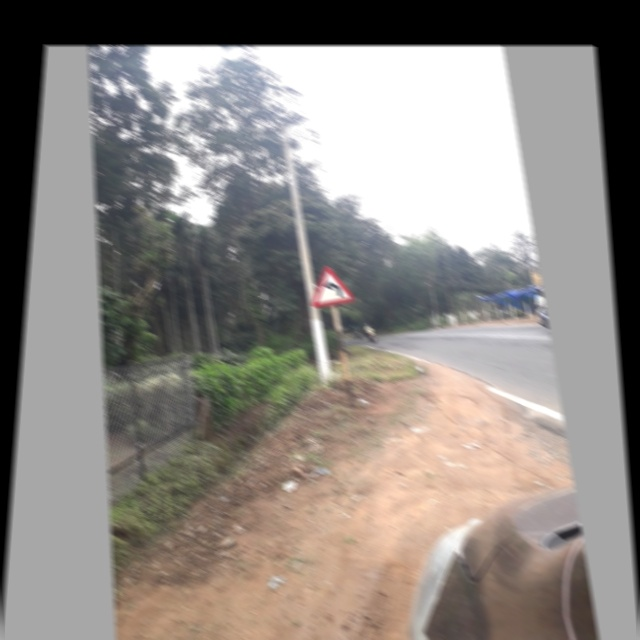Left_Hand_Curve: (307, 259, 352, 306)
